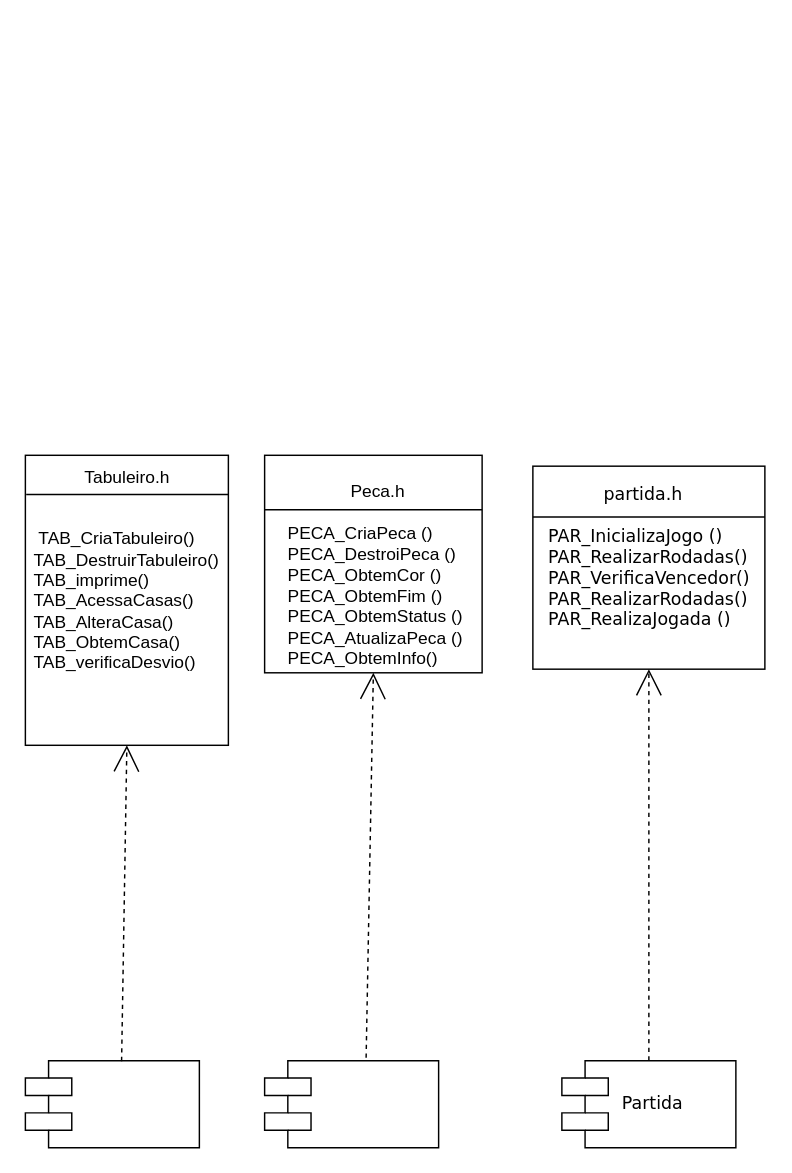
Image size: 792x1173. Some labels were removed from this diagram. Each missing label, with the centre of its shape:
"Peca" belongs at point 351,1103.
"Tabuleiro" belongs at point 111,1103.
